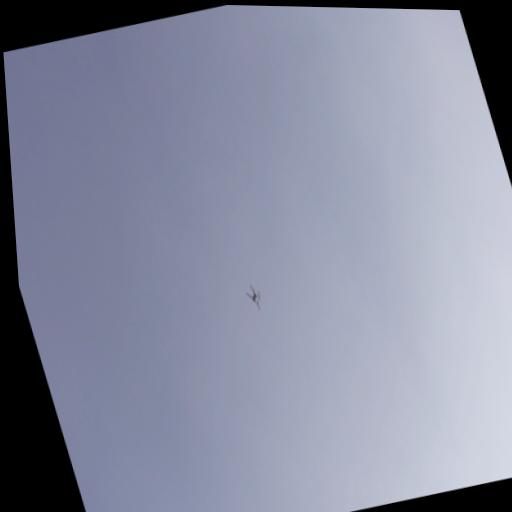drones: (242, 280, 266, 314)
